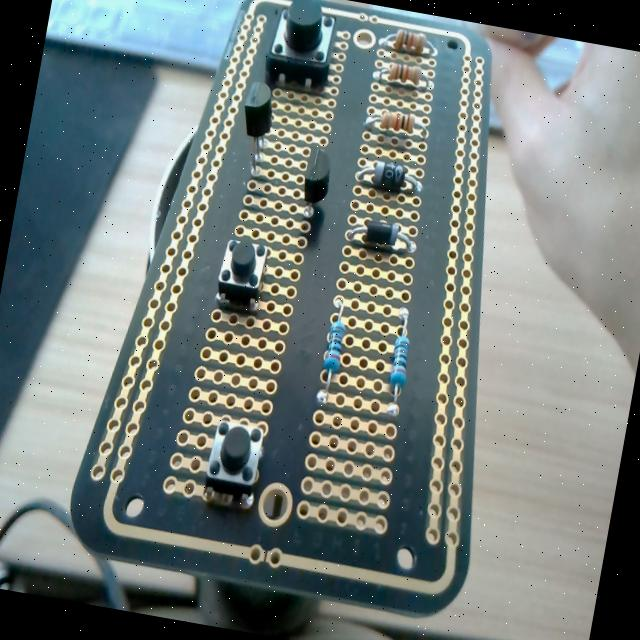diode: (343, 216, 417, 255), (354, 158, 423, 194), (350, 192, 419, 226)
resistor: (380, 306, 420, 416), (315, 296, 353, 406), (362, 101, 428, 141), (377, 26, 439, 58), (372, 58, 432, 89)
switch: (263, 0, 340, 93), (200, 416, 266, 507), (213, 234, 270, 314)
transistor: (234, 80, 282, 176), (293, 138, 337, 223)
